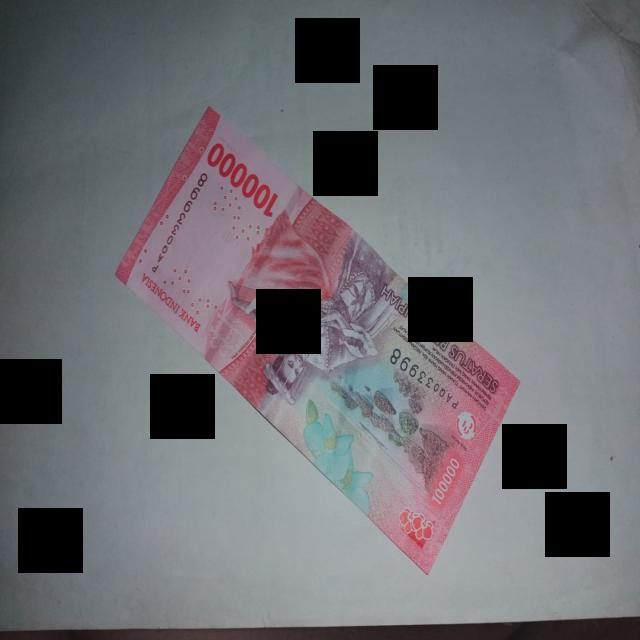seratusribu rupiah: (116, 108, 518, 572)
